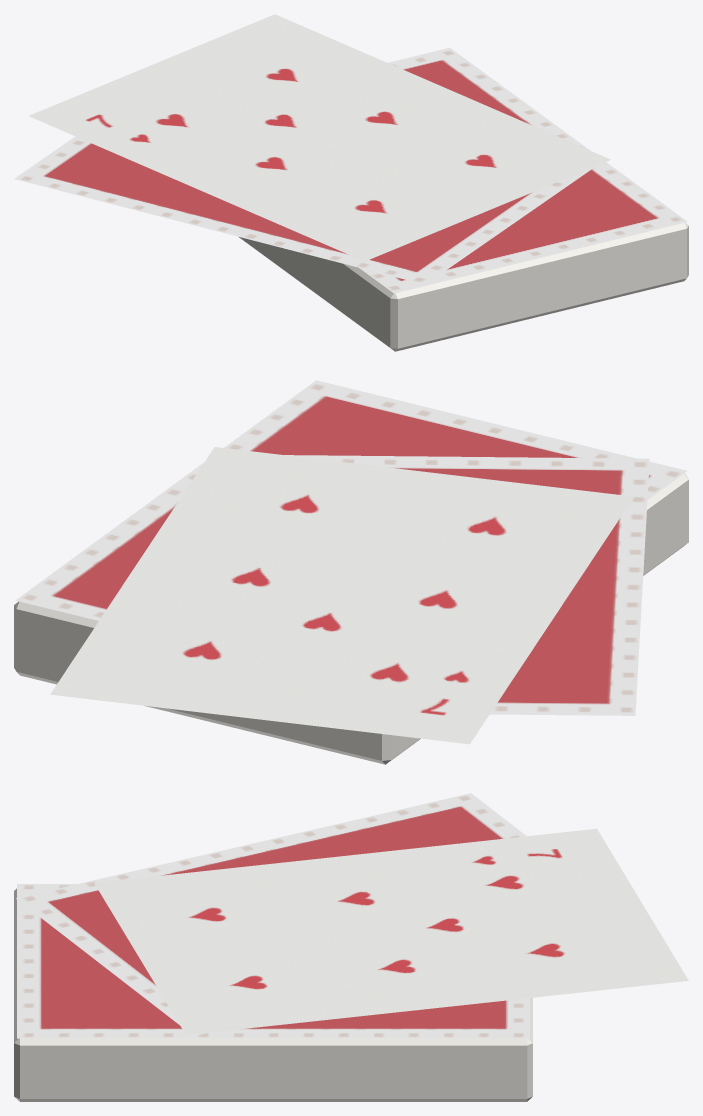
The model's file is playing_cards.glb.
3 views of the same model, one above another, from view 1: azimuth 30°, elevation 25°; view 2: azimuth 150°, elevation 25°; view 3: azimuth 270°, elevation 25° (orthographic). The views are drawn at different scales.
Parts seen in each view (by area): view 1: playing_cards; view 2: playing_cards; view 3: playing_cards.
Part boxes in pixels (x1,y1,x2,y2): playing_cards: (14,14,688,351); playing_cards: (14,380,688,764); playing_cards: (14,793,688,1101).
Bounding box in the file's own units: 0.1 × 0.0131 × 0.1165.
Materials: 3 (2 with a texture image).
